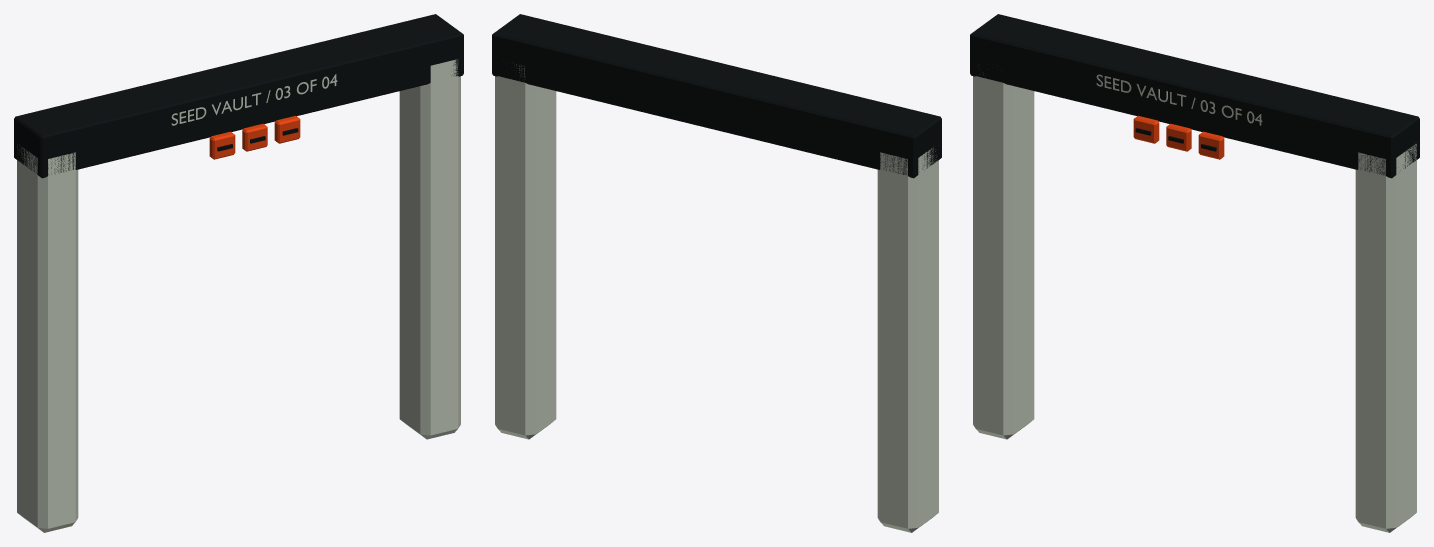
File: SM_MP_Vault_Frame.fbx
3 renders of one model, left to right at view 1: azimuth 30°, elevation 25°; view 2: azimuth 150°, elevation 25°; view 3: azimuth 330°, elevation 25°, orthographic.
Visible parts, largest first — view 1: SM_MP_Vault_Frame; view 2: SM_MP_Vault_Frame; view 3: SM_MP_Vault_Frame.
Part boxes in pixels (<box>): SM_MP_Vault_Frame: <box>14,14,463,532</box>; SM_MP_Vault_Frame: <box>492,14,941,532</box>; SM_MP_Vault_Frame: <box>970,14,1419,532</box>.
Size of the model in its own units: 520 by 71.25 by 470.
1 material, 1 textured.
